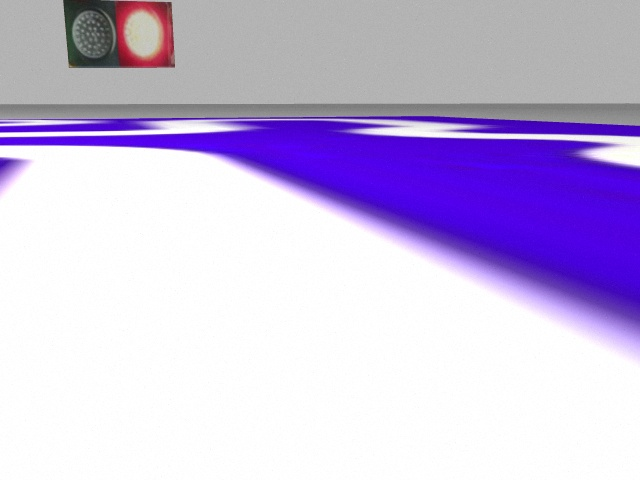red: (116, 3, 176, 65)
